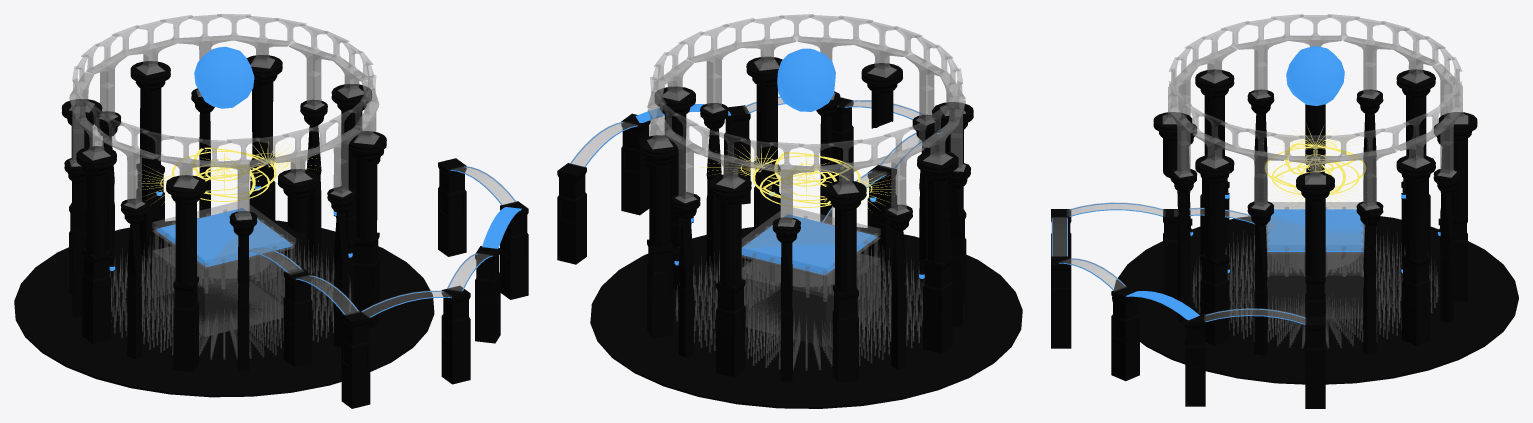
File: ruins.glb
The picture shows the model from 3 angles, left to right: view 1: azimuth 30°, elevation 25°; view 2: azimuth 150°, elevation 25°; view 3: azimuth 270°, elevation 25°; orthographic projection. The views are drawn at different scales.
Visible parts, largest first — view 1: MainMesh_LOD0; view 2: MainMesh_LOD0; view 3: MainMesh_LOD0.
Boxes of the visible parts, x1,y1,x2,y2 form: MainMesh_LOD0: (14, 14, 528, 408); MainMesh_LOD0: (557, 14, 1022, 408); MainMesh_LOD0: (1051, 14, 1518, 408).
Size of what is drawn, in the model's own units: 230 by 136 by 230.
